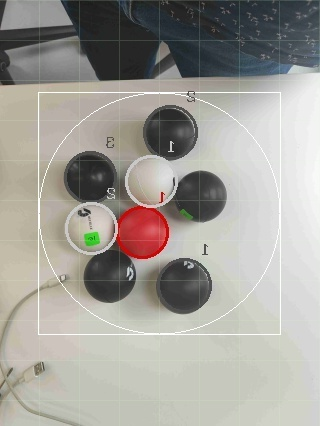Pelota blanca: (157, 257, 214, 315), (125, 153, 180, 208), (63, 201, 119, 254), (175, 169, 228, 224)
Pelota negra: (157, 257, 214, 315), (143, 103, 199, 160), (82, 249, 137, 304), (63, 150, 119, 203)
Pelota roja: (117, 204, 172, 259)
